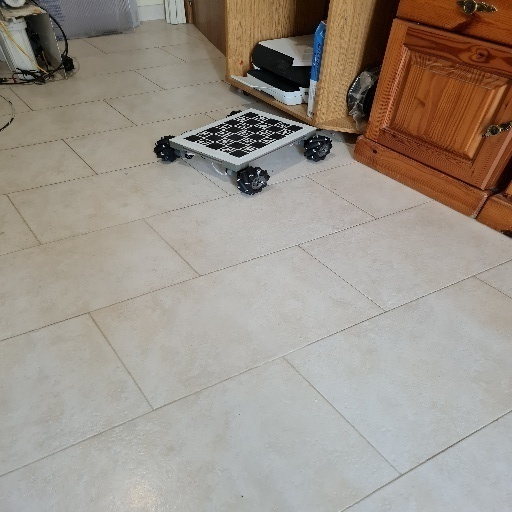Omniwheel: (152, 106, 335, 196)
